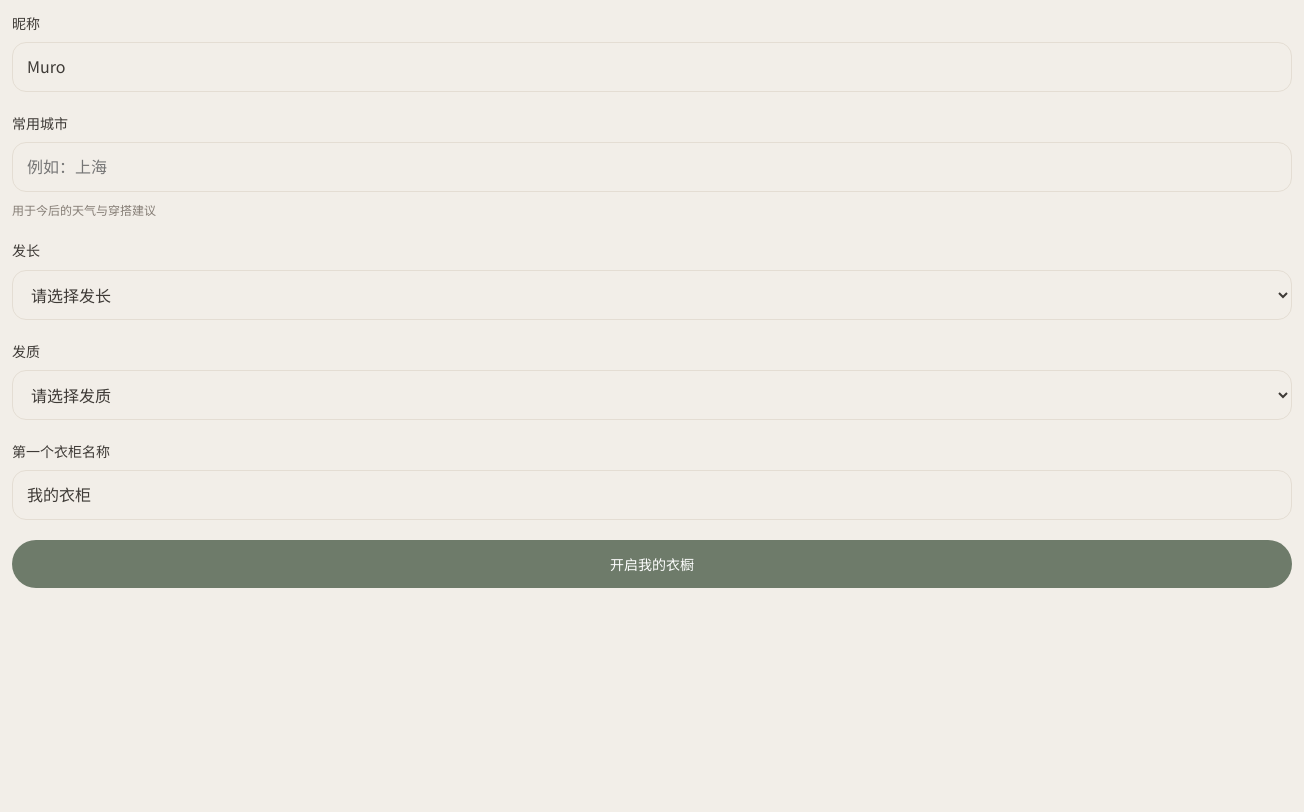
Test: keeps values and offers a sign-in link when the session expires
Type "上海" into the field labelled "常用城市" at (652, 167), box [12,142,1292,192]
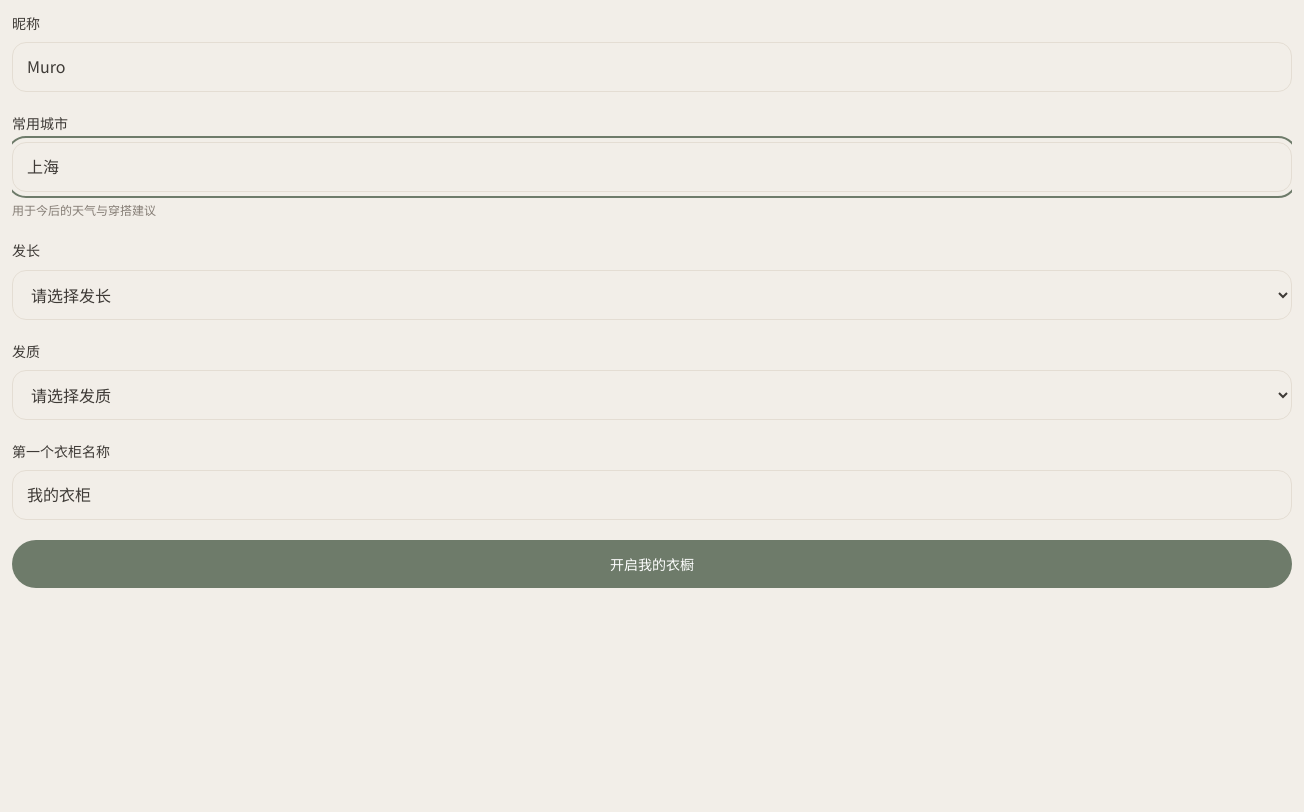
Select "短发" in the dropdown labelled "发长" at (652, 294), box [12,270,1292,320]
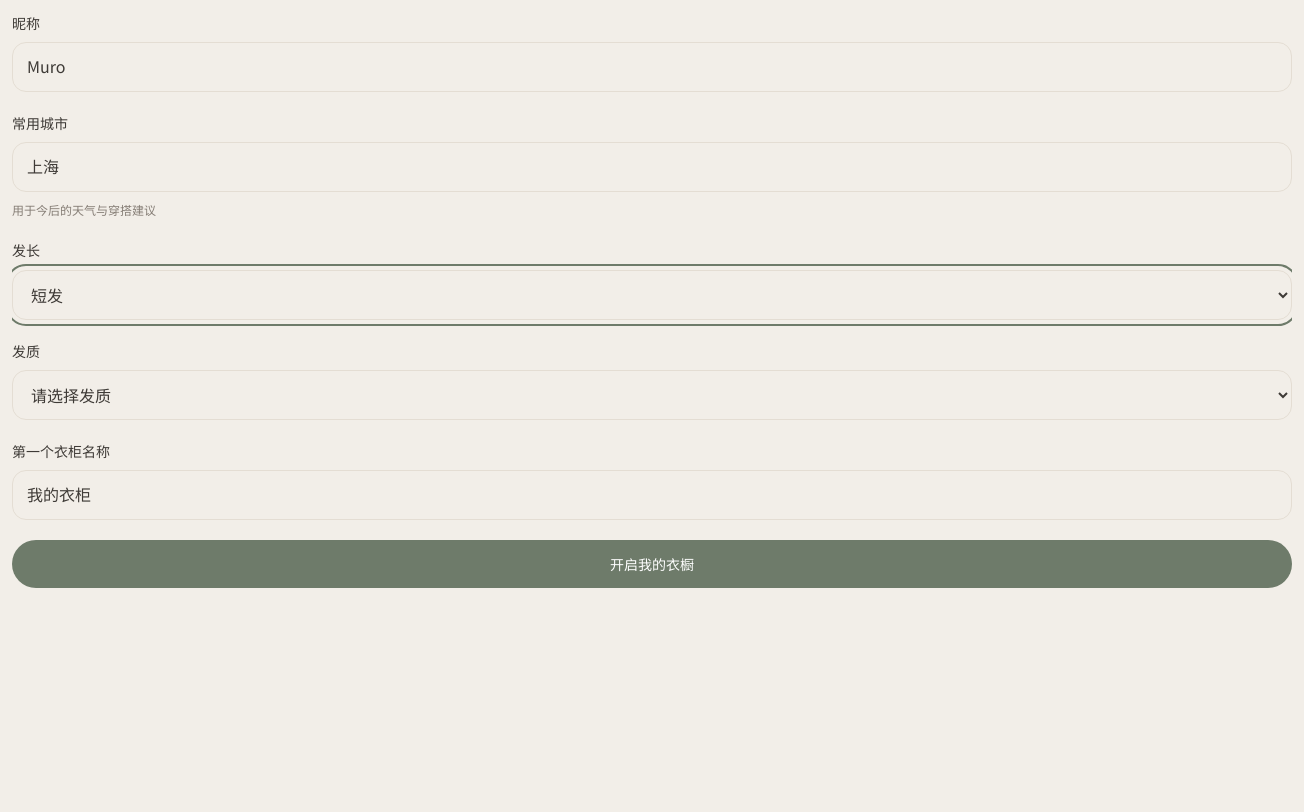
Select "卷发" in the dropdown labelled "发质" at (652, 395), box [12,370,1292,420]
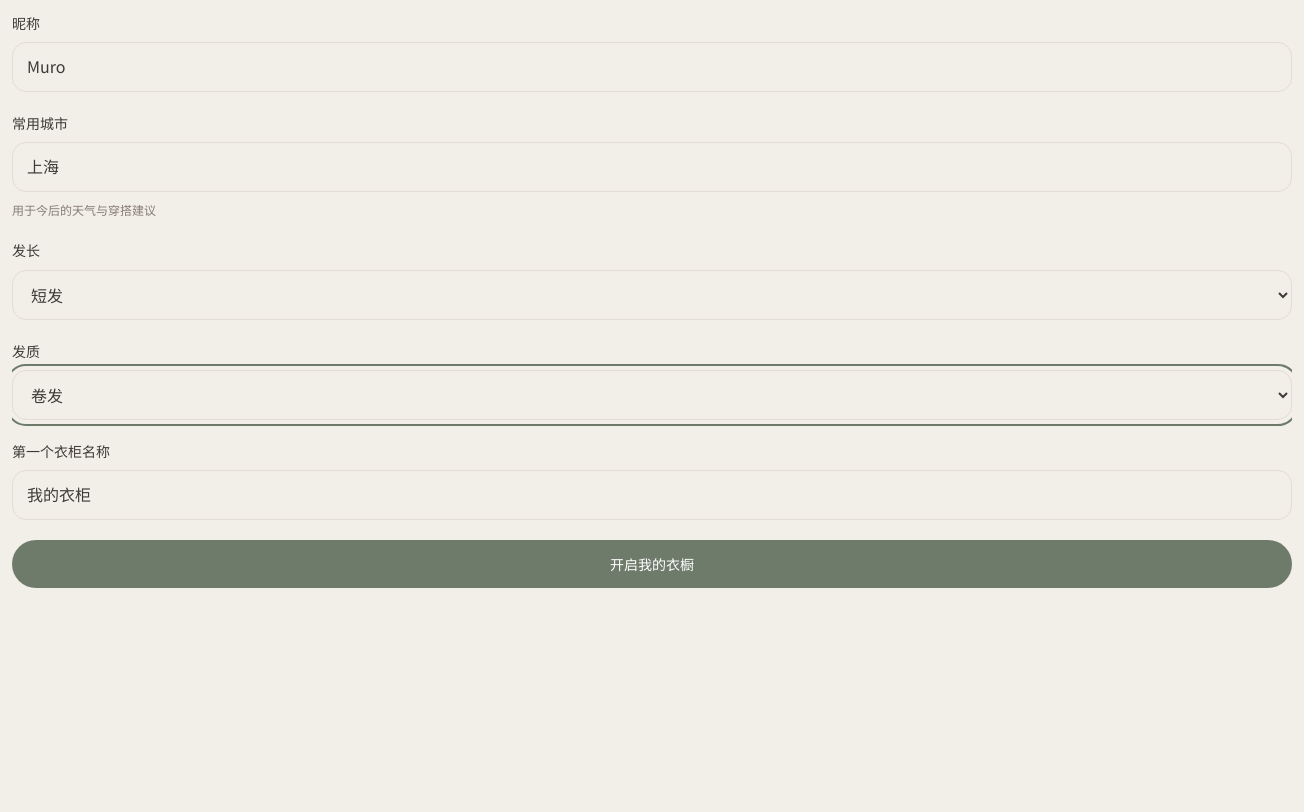
Click the button "开启我的衣橱" at (652, 564), box [12,540,1292,588]
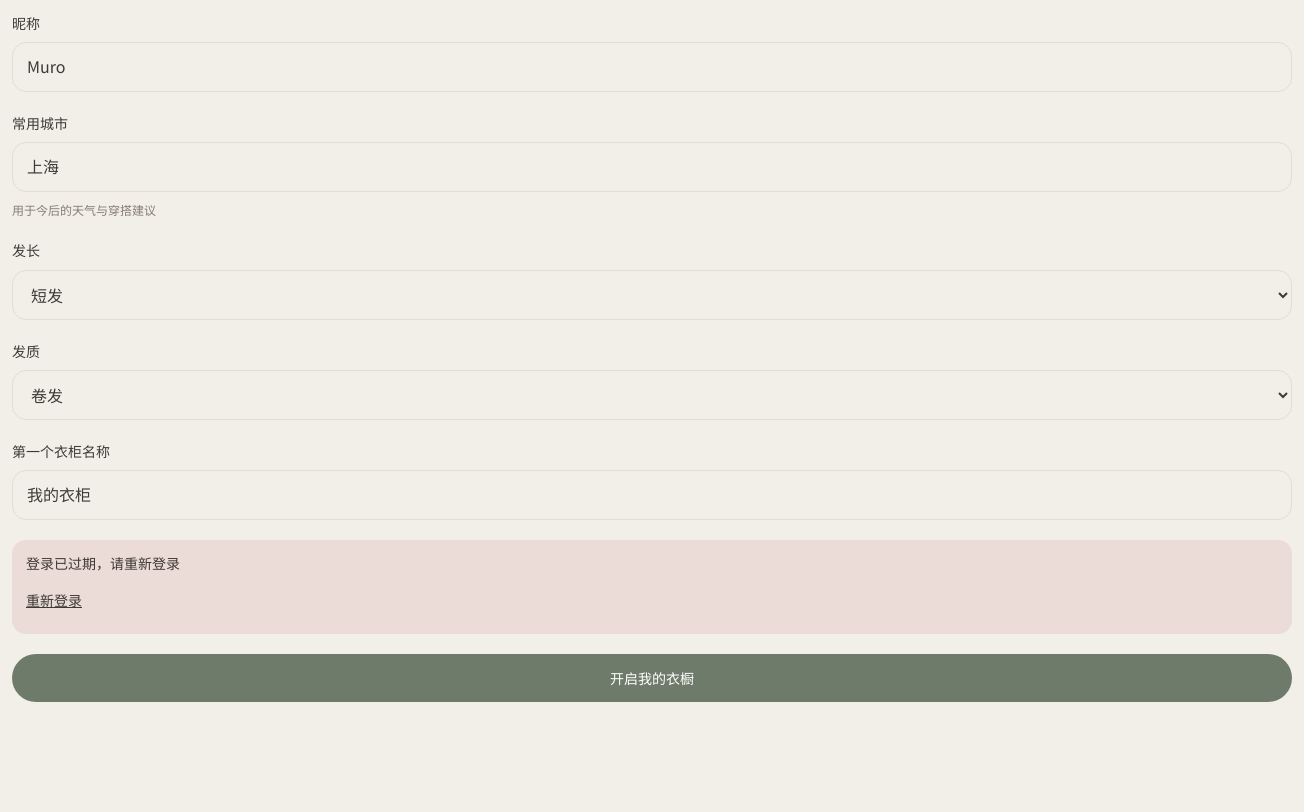
Now the message shows "登录已过期", box [26,553,180,573]
